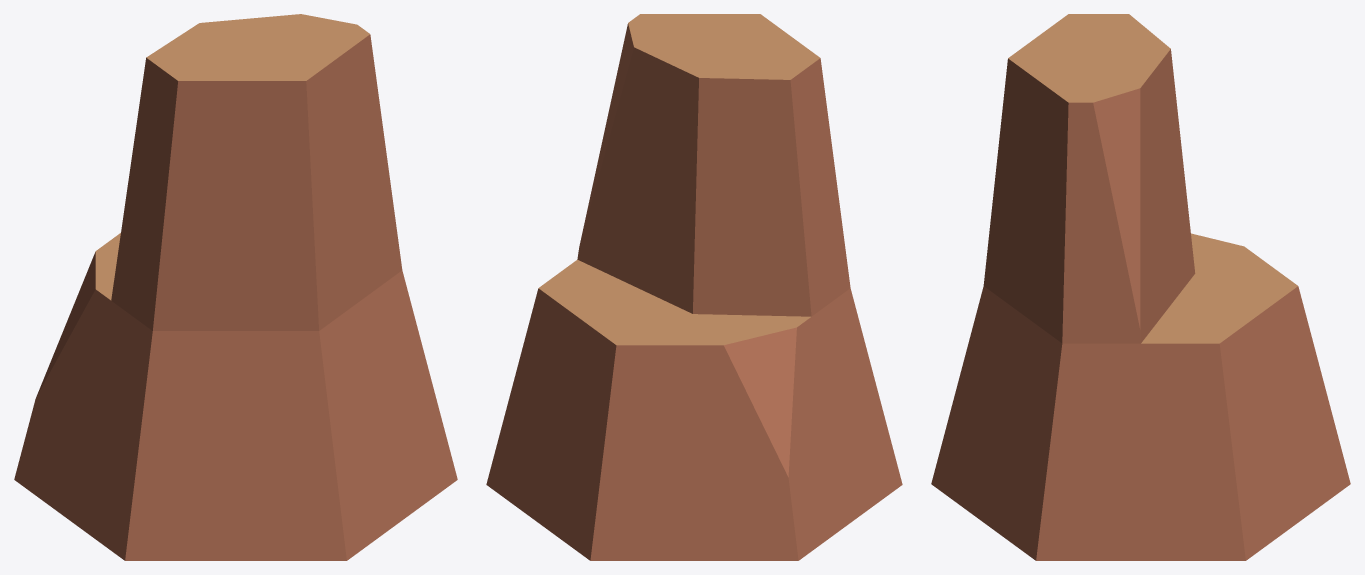
The model's file is nk_rockred_tallF.glb.
The picture shows the model from 3 angles, left to right: view 1: azimuth 30°, elevation 25°; view 2: azimuth 150°, elevation 25°; view 3: azimuth 270°, elevation 25°; orthographic projection. The views are drawn at different scales.
Parts seen in each view (by area): view 1: rock_tallF; view 2: rock_tallF; view 3: rock_tallF.
Boxes of the visible parts, x1,y1,x2,y2 form: rock_tallF: (14, 14, 457, 560); rock_tallF: (486, 14, 902, 560); rock_tallF: (931, 14, 1350, 560).
Size of the model in its own units: 2.2 by 2.84 by 2.54.
